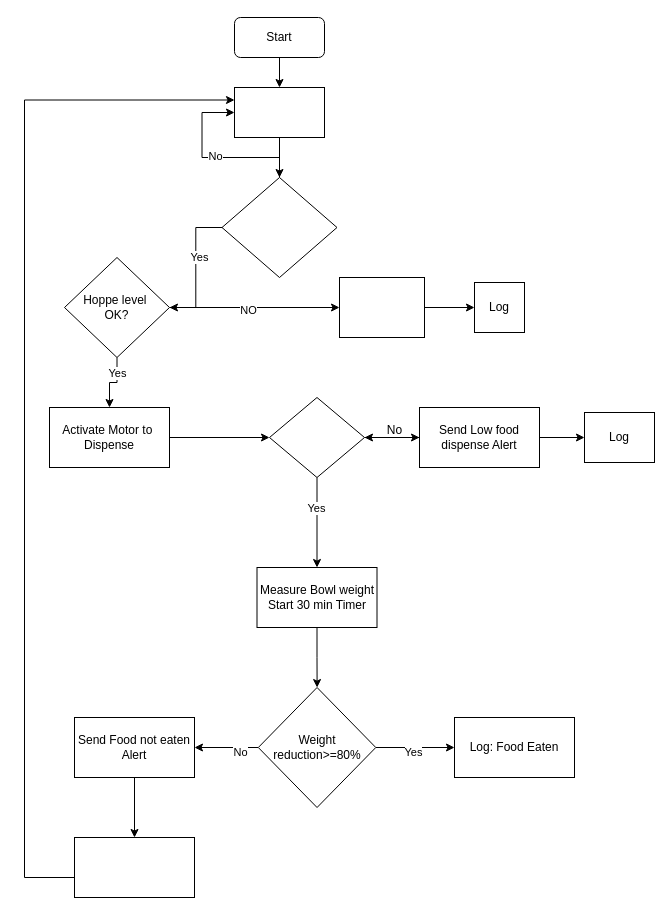
Image size: 672x915. Some labels were removed from this diagram. Each missing label, with the centre of its shape:
Dispense confirmed?: the point at 316,437
load schedule & time: the point at 279,112
Send low Food Alert: the point at 381,307
Time matches schedule?: the point at 279,227
Waiting State: the point at 134,867
